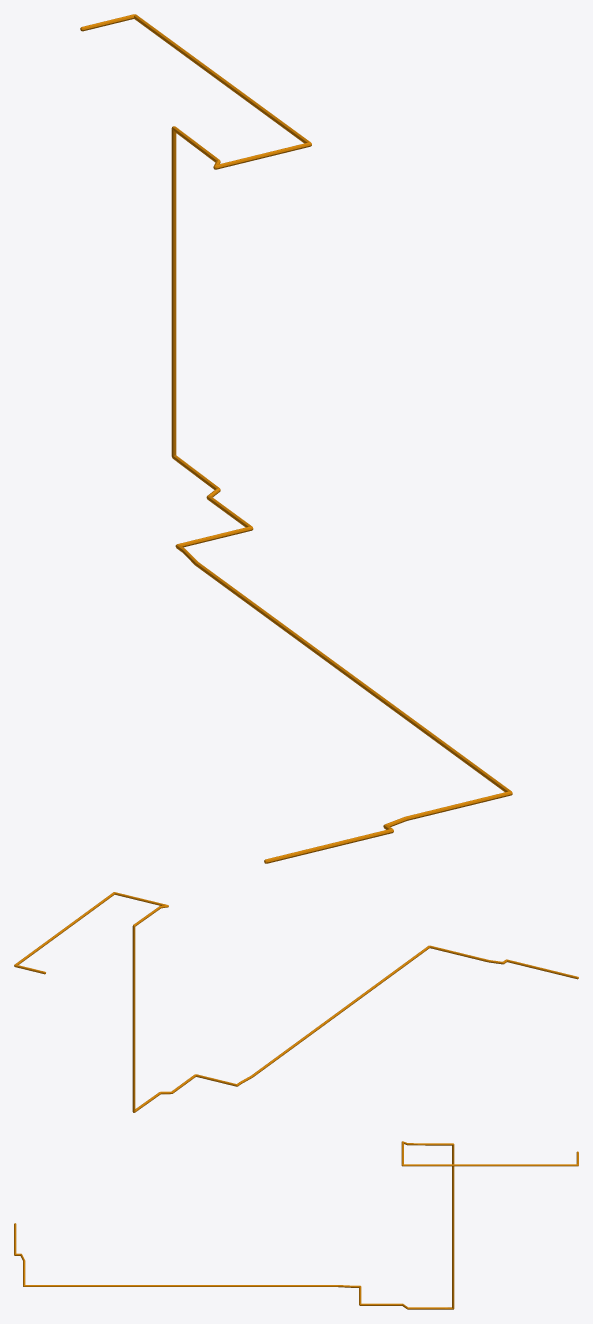
The picture shows the model from 3 angles, top to bottom: view 1: azimuth 30°, elevation 25°; view 2: azimuth 150°, elevation 25°; view 3: azimuth 270°, elevation 25°; orthographic projection. The views are drawn at different scales.
Size of the model in its own units: 2081 by 1520 by 4681.
